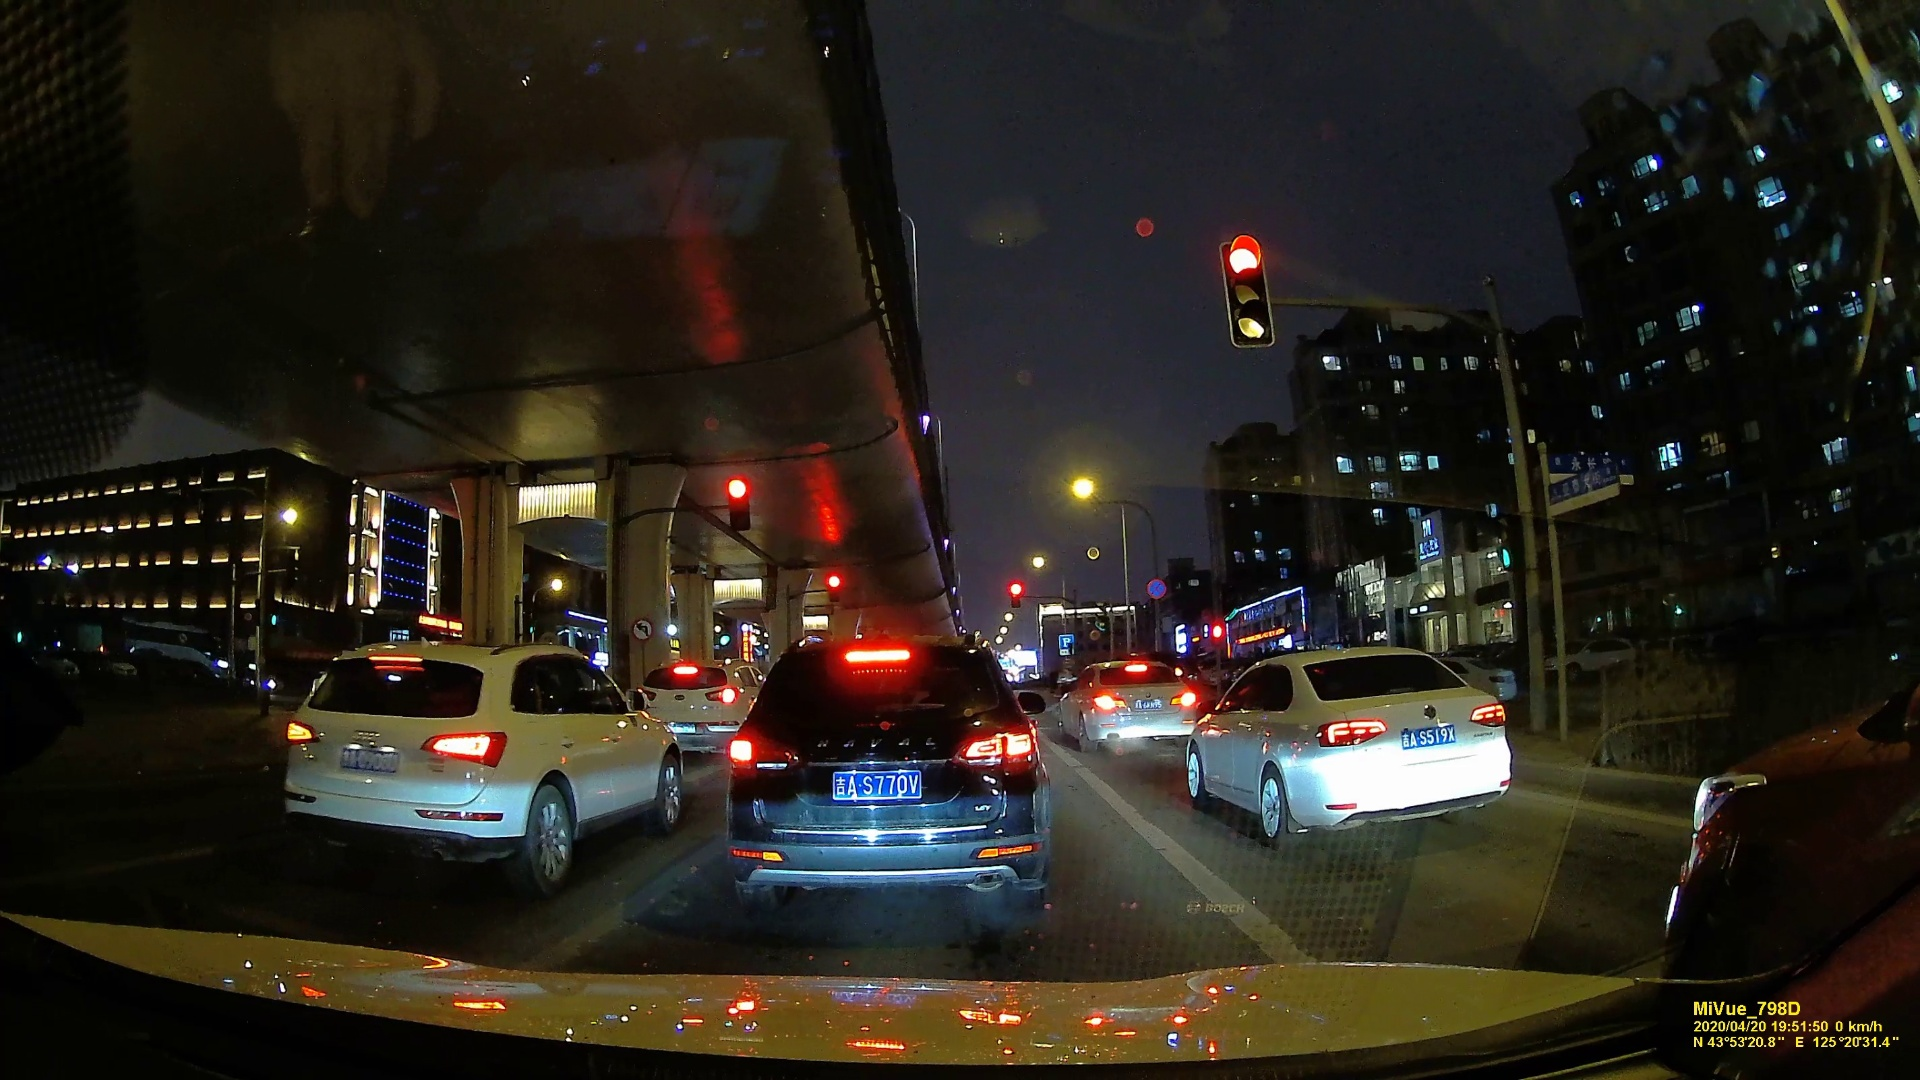traffic_sign: (1222, 233, 1278, 351), (1545, 465, 1623, 498), (1482, 498, 1515, 564), (723, 475, 748, 527), (1145, 576, 1168, 600), (630, 618, 653, 641), (825, 574, 843, 601), (1056, 633, 1076, 655), (1007, 582, 1023, 609)
vehicle: (276, 644, 674, 886), (723, 646, 1042, 928), (1178, 654, 1506, 847), (1054, 654, 1197, 752), (642, 655, 752, 748)
